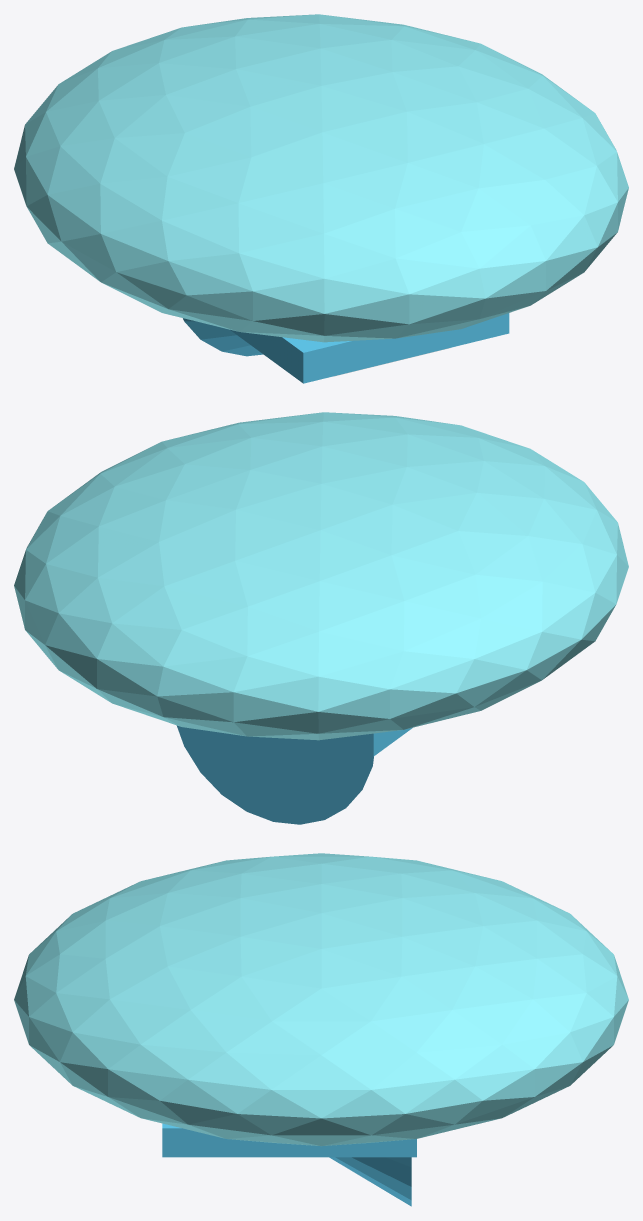
Rendered from shield_bubble.glb.
3 renders of one model, top to bottom at view 1: azimuth 30°, elevation 25°; view 2: azimuth 150°, elevation 25°; view 3: azimuth 270°, elevation 25°, orthographic. The views are drawn at different scales.
Parts seen in each view (by area): view 1: shield_bubble, blue, blue_1; view 2: shield_bubble, blue_1, blue; view 3: shield_bubble, blue, blue_1.
Boxes of the visible parts, x1=… form: shield_bubble: x1=14, y1=14, x2=628, y2=342; blue: x1=230, y1=313, x2=509, y2=383; blue_1: x1=183, y1=318, x2=263, y2=356; shield_bubble: x1=14, y1=412, x2=628, y2=740; blue_1: x1=176, y1=725, x2=373, y2=824; blue: x1=303, y1=727, x2=412, y2=756; shield_bubble: x1=14, y1=853, x2=628, y2=1146; blue: x1=162, y1=1123, x2=416, y2=1157; blue_1: x1=329, y1=1157, x2=411, y2=1206.
Size of the model in its own units: 1.06 by 0.59 by 1.16.
